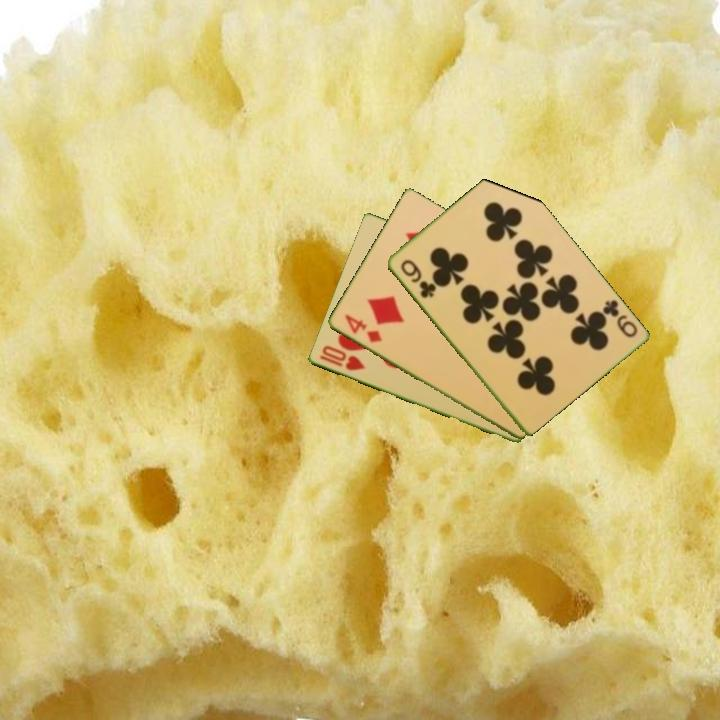10h: (316, 342, 368, 374)
4d: (340, 311, 384, 346)
9c: (598, 296, 640, 340), (397, 256, 438, 301)
